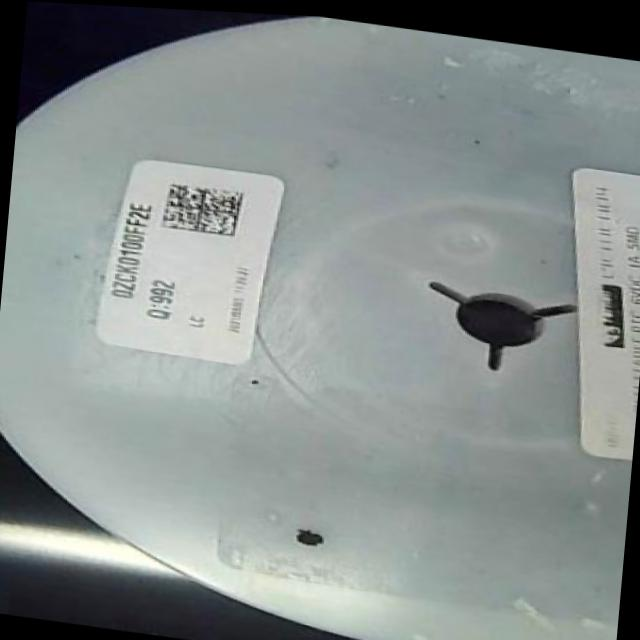datamatrix: (158, 174, 248, 236)
